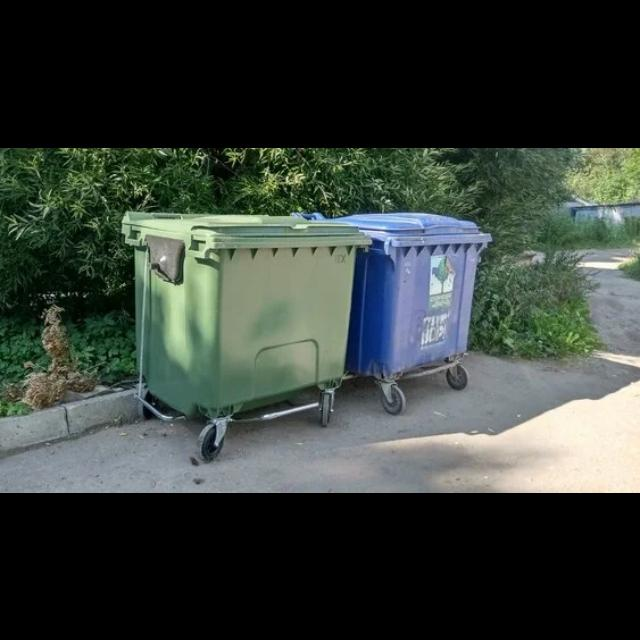Trash_Can_Closed: (122, 209, 373, 413), (289, 210, 493, 379)
